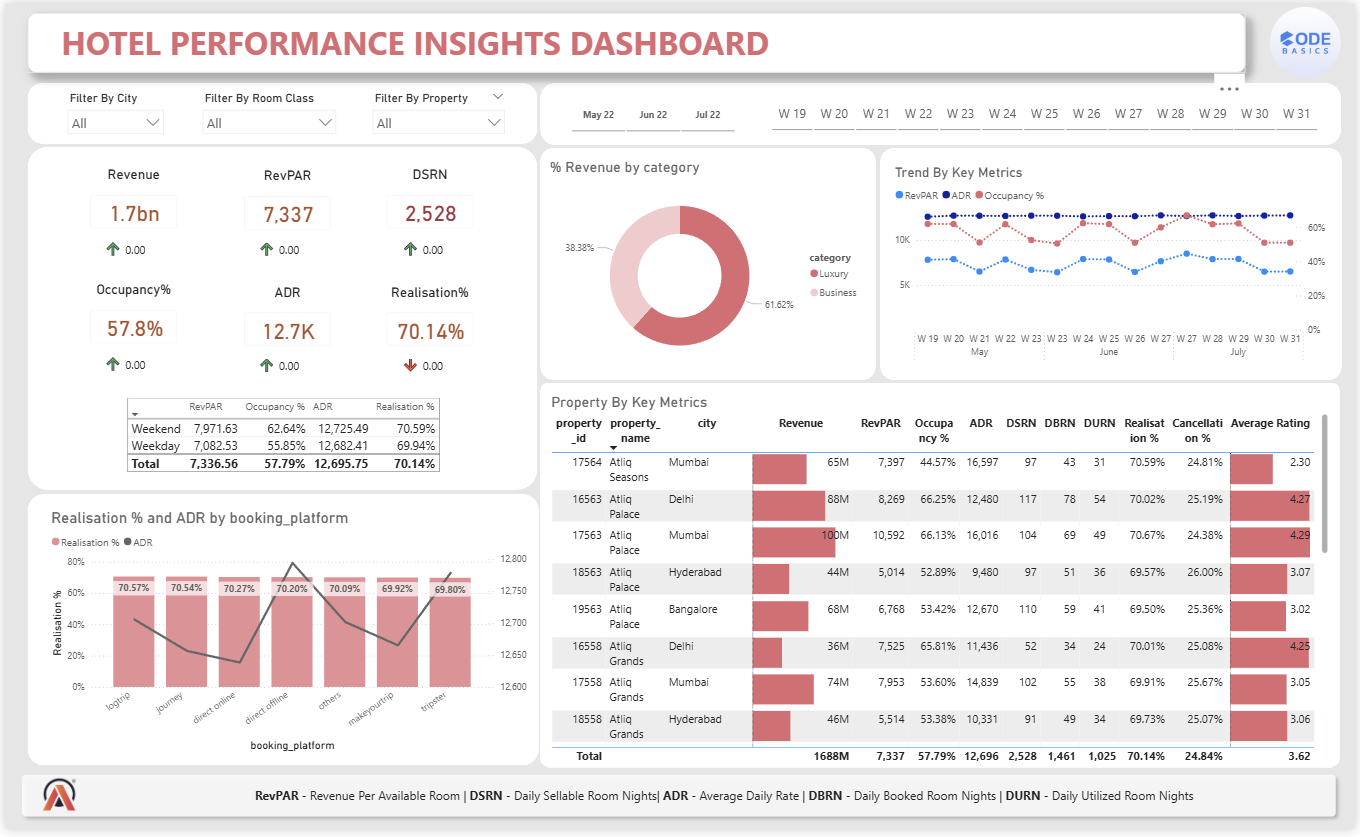

Layout of this report page (visuals, bound fields, positions):
{"tool":"powerbi","page":{"name":"Dashboard","canvas":[1800,1100],"ordinal":0},"visuals":[{"type":"shape","box":[30,654,682,362],"z":0},{"type":"shape","box":[713.2,192.5,448,310],"z":1000},{"type":"shape","box":[30,190,680,458],"z":2000},{"type":"shape","box":[30,105,680,81.7],"z":3000},{"type":"slicer","fields":{"Values":["dim_hotels.city"]},"box":[73.3,111.7,148.3,68.3],"z":4000},{"type":"slicer","fields":{"Values":["dim_rooms.room_class"]},"box":[253.3,111.7,198.3,68.3],"z":5000},{"type":"donutChart","title":"% Revenue by category","fields":{"Category":["dim_hotels.category"],"Y":["key_measures.Revenue"]},"box":[722,206,430,290],"z":6000},{"type":"tableEx","fields":{"Values":["key_measures.Revenue WoW change %"]},"box":[123.6,282,96,70],"z":7000,"group":"g3"},{"type":"lineStackedColumnComboChart","fields":{"Category":["fact_bookings.booking_platform"],"Y":["key_measures.Realisation %"],"Y2":["key_measures.ADR"]},"box":[57.4,673.7,644,328],"z":7000},{"type":"tableEx","fields":{"Values":["dim_date.day_type","key_measures.RevPAR","key_measures.Occupancy %","key_measures.ADR","key_measures.Realisation %"]},"box":[157.1,520.8,456,118],"z":8000},{"type":"shape","box":[713.3,105,1068.3,83.3],"z":9000},{"type":"tableEx","fields":{"Values":["key_measures.Revenue WoW change %"]},"box":[519.1,281.4,94,70],"z":9000,"group":"g1"},{"type":"slicer","fields":{"Values":["dim_date.mmm yy"]},"box":[730,118.3,266.7,58.3],"z":10000},{"type":"tableEx","fields":{"Values":["key_measures.Revenue WoW change %"]},"box":[328.1,282.6,96,70],"z":10000,"group":"g2"},{"type":"slicer","fields":{"Values":["dim_date.week no"]},"box":[996.7,116.7,776.7,58.3],"z":11000},{"type":"cardVisual","title":"DSRN","fields":{"Data":["key_measures.DSRN"]},"box":[491.1,216.8,150,100],"z":11000,"group":"g1"},{"type":"shape","box":[1166,192,616,310],"z":12000},{"type":"cardVisual","title":"RevPAR","fields":{"Data":["key_measures.RevPAR"]},"box":[301.1,218.8,150,100],"z":12000,"group":"g2"},{"type":"lineChart","title":"Trend By Key Metrics","fields":{"Category":["dim_date.mmm yy.Variation.Date Hierarchy.Month","dim_date.week no"],"Y":["key_measures.RevPAR","key_measures.ADR"],"Y2":["key_measures.Occupancy %"]},"box":[1181.2,213.7,584,272],"z":13000},{"type":"cardVisual","title":"Revenue","fields":{"Data":["key_measures.Revenue"]},"box":[96.6,217.4,150,100],"z":13000,"group":"g3"},{"type":"group","id":"g1","title":"Group 1","box":[491.1,216.8,150,290],"z":14000},{"type":"group","id":"g2","title":"Group 2","box":[301.1,218.8,150,288],"z":15000},{"type":"group","id":"g3","title":"Group 3","box":[96.6,217.4,150,288],"z":16000},{"type":"tableEx","fields":{"Values":["key_measures.Revenue WoW change %"]},"box":[328.1,437.4,96,70],"z":16000,"group":"g2"},{"type":"tableEx","fields":{"Values":["key_measures.Revenue WoW change %"]},"box":[123.6,436,96,70],"z":17000,"group":"g3"},{"type":"shape","box":[713.3,505,1066.7,511.7],"z":17000},{"type":"tableEx","fields":{"Values":["key_measures.Revenue WoW change %"]},"box":[519.1,437.4,94,70],"z":18000,"group":"g1"},{"type":"tableEx","title":"Property By Key Metrics","fields":{"Values":["dim_hotels.property_id","dim_hotels.property_name","dim_hotels.city","key_measures.Revenue","key_measures.RevPAR","key_measures.Occupancy %","key_measures.ADR","key_measures.DSRN","key_measures.DBRN","key_measures.DURN","key_measures.Realisation %","key_measures.Cancellation %"]},"box":[724,520,1046,498],"z":18000},{"type":"cardVisual","title":"Realisation%","fields":{"Data":["key_measures.Realisation %"]},"box":[491.1,373.4,150,100],"z":19000,"group":"g1"},{"type":"shape","box":[14,1018,1770,74],"z":19000},{"type":"cardVisual","title":"ADR","fields":{"Data":["key_measures.ADR"]},"box":[301.1,373.4,150,100],"z":20000,"group":"g2"},{"type":"image","box":[42,1032,62,44],"z":20000},{"type":"image","box":[1686,0,94,102],"z":21000},{"type":"cardVisual","title":"Occupancy%","fields":{"Data":["key_measures.Occupancy %"]},"box":[96.6,371.4,150,100],"z":21000,"group":"g3"},{"type":"textbox","box":[328,1038,1326,48],"z":22000},{"type":"slicer","fields":{"Values":["dim_hotels.property_name"]},"box":[480,111.7,196.7,68.3],"z":23000},{"type":"shape","box":[30,12,1630,80],"z":24000},{"type":"textbox","box":[30,12,1624,80],"z":25000}]}

Visuals, with their boxes in screenshot pixels (x1, y1, x2, y2), scaled from the page's 1800x1100 canvas onto the 1360x837 screenshot:
shape: box(23, 498, 538, 773)
shape: box(539, 146, 877, 382)
shape: box(23, 145, 536, 493)
shape: box(23, 80, 536, 142)
slicer - dim_hotels.city: box(55, 85, 167, 137)
slicer - dim_rooms.room_class: box(191, 85, 341, 137)
"% Revenue by category" donutChart: box(546, 157, 870, 377)
tableEx - key_measures.Revenue WoW change %: box(93, 215, 166, 268)
lineStackedColumnComboChart - fact_bookings.booking_platform x key_measures.Realisation %: box(43, 513, 530, 762)
tableEx - dim_date.day_type x key_measures.RevPAR: box(119, 396, 463, 486)
shape: box(539, 80, 1346, 143)
tableEx - key_measures.Revenue WoW change %: box(392, 214, 463, 267)
slicer - dim_date.mmm yy: box(552, 90, 753, 134)
tableEx - key_measures.Revenue WoW change %: box(248, 215, 320, 268)
slicer - dim_date.week no: box(753, 89, 1340, 133)
"DSRN" cardVisual: box(371, 165, 484, 241)
shape: box(881, 146, 1346, 382)
"RevPAR" cardVisual: box(227, 166, 341, 243)
"Trend By Key Metrics" lineChart: box(892, 163, 1334, 370)
"Revenue" cardVisual: box(73, 165, 186, 242)
"Group 1" group: box(371, 165, 484, 386)
"Group 2" group: box(227, 166, 341, 386)
"Group 3" group: box(73, 165, 186, 385)
tableEx - key_measures.Revenue WoW change %: box(248, 333, 320, 386)
tableEx - key_measures.Revenue WoW change %: box(93, 332, 166, 385)
shape: box(539, 384, 1345, 774)
tableEx - key_measures.Revenue WoW change %: box(392, 333, 463, 386)
"Property By Key Metrics" tableEx: box(547, 396, 1337, 775)
"Realisation%" cardVisual: box(371, 284, 484, 360)
shape: box(11, 775, 1348, 831)
"ADR" cardVisual: box(227, 284, 341, 360)
image: box(32, 785, 79, 819)
image: box(1274, 0, 1345, 78)
"Occupancy%" cardVisual: box(73, 283, 186, 359)
textbox: box(248, 790, 1250, 826)
slicer - dim_hotels.property_name: box(363, 85, 511, 137)
shape: box(23, 9, 1254, 70)
textbox: box(23, 9, 1250, 70)
